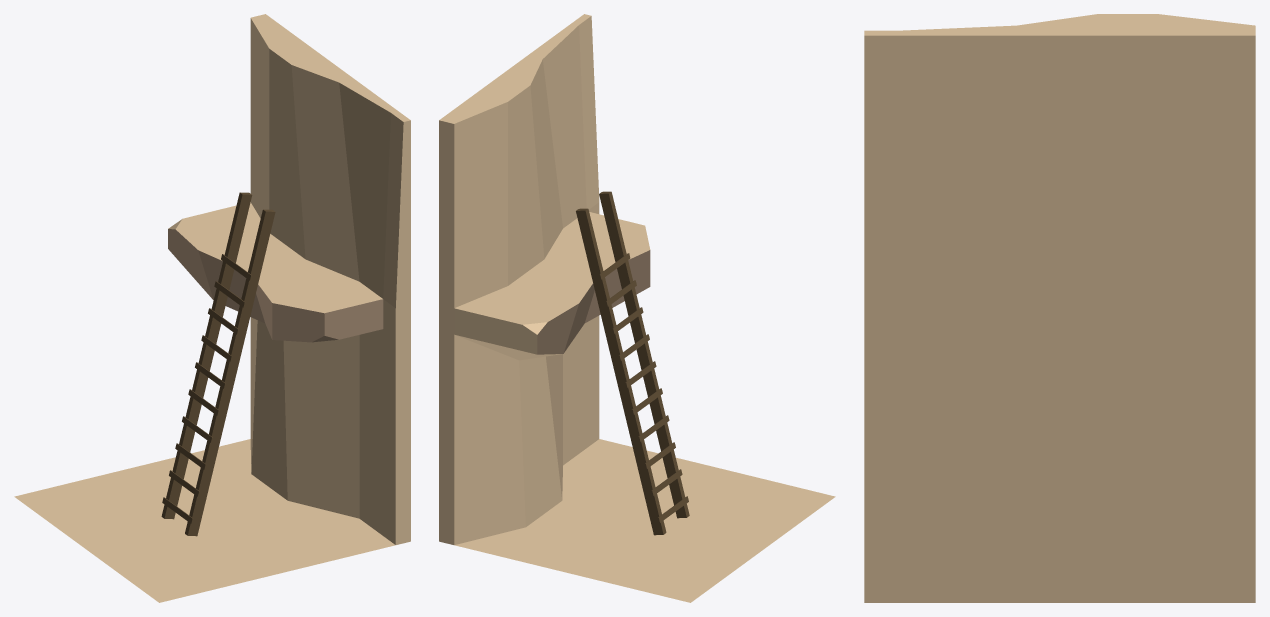
File: WallLadder.fbx
3 views of the same model, side by side, from view 1: azimuth 30°, elevation 25°; view 2: azimuth 150°, elevation 25°; view 3: azimuth 270°, elevation 25° (orthographic). The views are drawn at different scales.
Visible parts, largest first — view 1: WallLadder, WallLadderLadder; view 2: WallLadder, WallLadderLadder; view 3: WallLadder.
Part boxes in pixels (bbox=[...]): WallLadder: bbox=[14, 14, 410, 602]; WallLadderLadder: bbox=[161, 192, 275, 536]; WallLadder: bbox=[439, 14, 835, 602]; WallLadderLadder: bbox=[576, 191, 689, 535]; WallLadder: bbox=[864, 14, 1255, 602].
Bounding box in the file's own units: 5 × 8 × 5.
